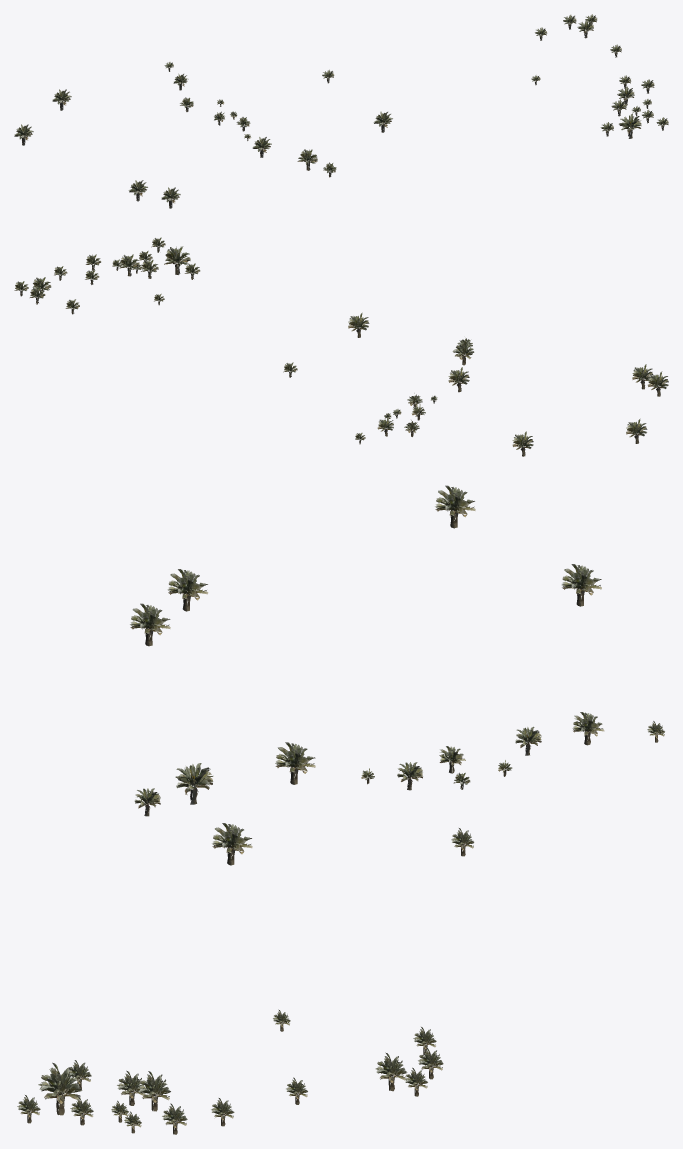
File: Palmera11.glb
The picture shows the model from 3 angles, top to bottom: view 1: azimuth 30°, elevation 25°; view 2: azimuth 150°, elevation 25°; view 3: azimuth 270°, elevation 25°; orthographic projection. The views are drawn at different scales.
Visible parts, largest first — view 1: Palmera11Web; view 2: Palmera11Web; view 3: Palmera11Web.
Part boxes in pixels (x1,y1,x2,y2): Palmera11Web: (14,14,668,208); Palmera11Web: (14,237,668,456); Palmera11Web: (17,485,664,1134).
Bounding box in the file's own units: 294 × 32.49 × 144.
Materials: 1 (1 with a texture image).
